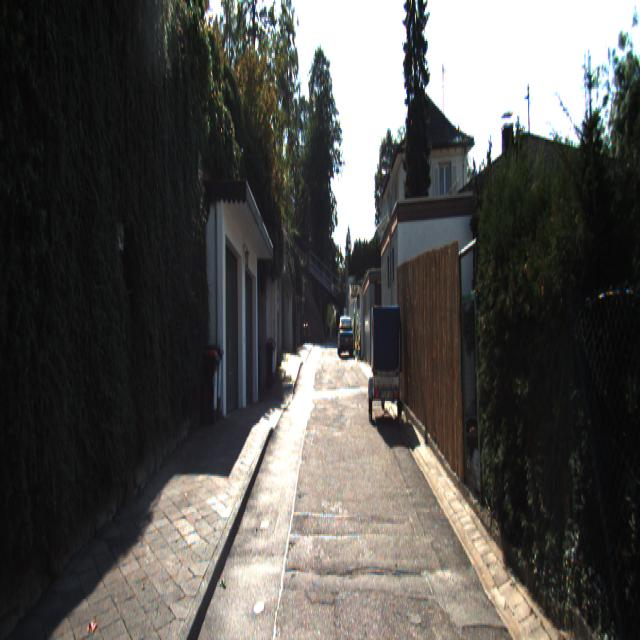Car: (337, 315, 354, 359)
Misc: (369, 303, 407, 429)
